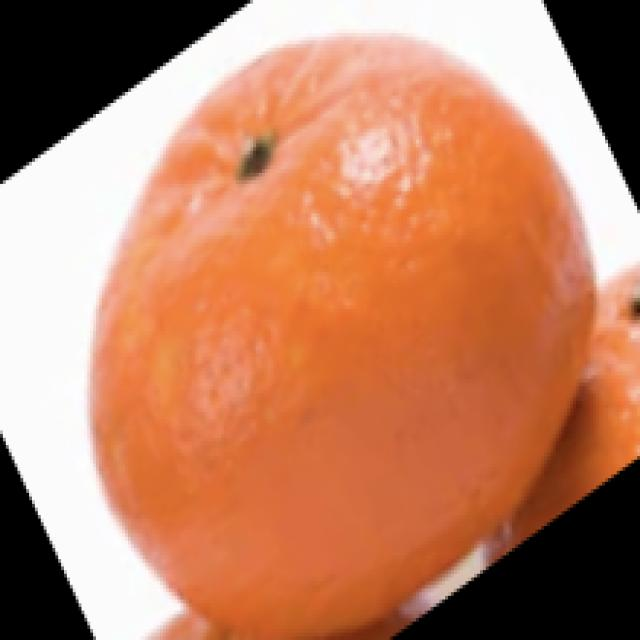matang: (93, 38, 594, 635), (495, 246, 640, 571)
